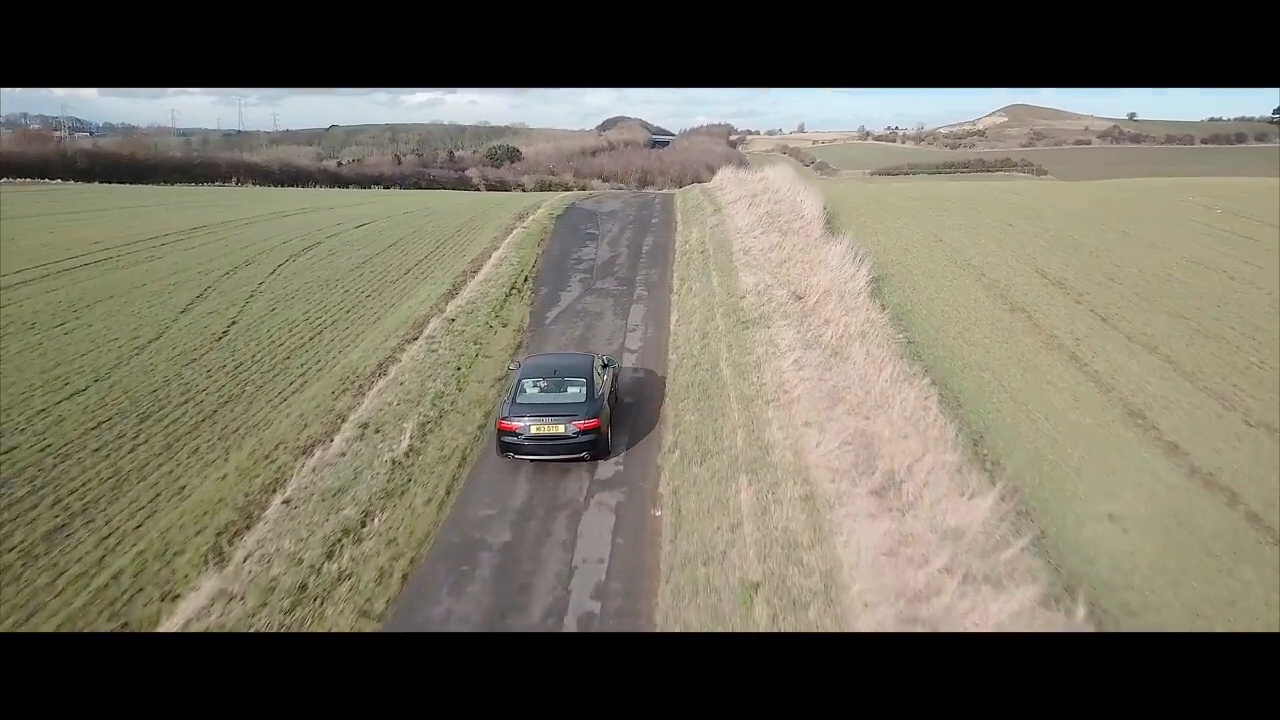araba: (488, 352, 620, 463)
